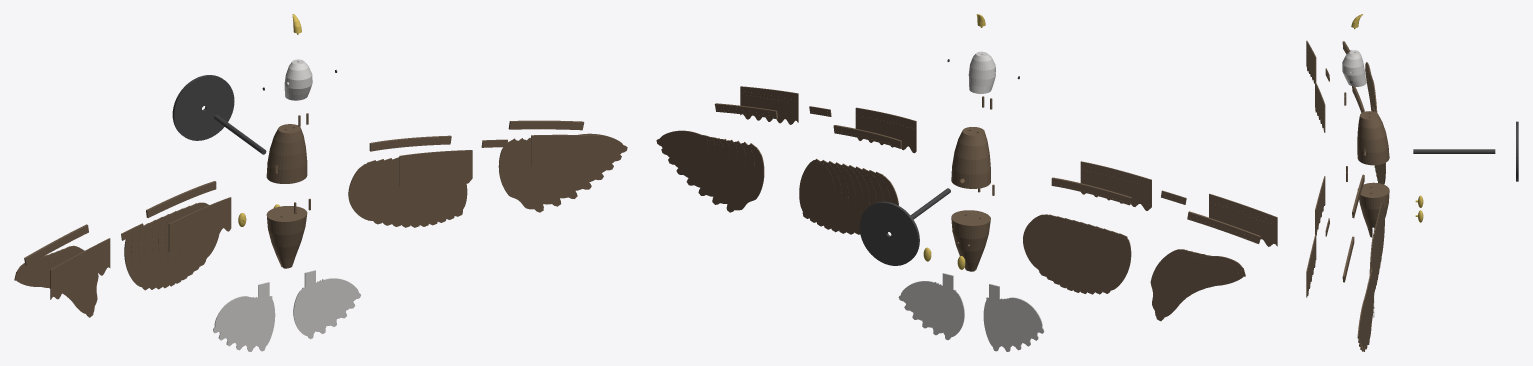
The model's file is eagle_exploded.glb.
3 renders of one model, left to right at view 1: azimuth 30°, elevation 25°; view 2: azimuth 150°, elevation 25°; view 3: azimuth 270°, elevation 25°, orthographic. The views are drawn at different scales.
Visible parts, largest first — view 1: stand_base, tail_R, tail_L, wing_R_covert_inner, wing_R_p01, wing_R_covert_outer, body_front, wing_R_s01, wing_L_covert_inner, wing_L_covert_outer, body_rear, wing_L_p01 (+14 smaller); view 2: stand_base, tail_R, tail_L, body_front, wing_L_s10, wing_L_covert_inner, wing_L_covert_outer, body_rear, wing_R_s10, wing_R_covert_inner, wing_R_covert_outer, wing_L_p08 (+24 smaller); view 3: body_front, body_rear, head, stand_column, wing_R_covert_outer, wing_R_covert_inner, wing_L_covert_inner, wing_L_covert_outer, wing_R_p08, wing_R_s10, wing_R_spar_outer, wing_R_spar_inner (+1 smaller).
Part boxes in pixels (left/top/right/bottom): stand_base: left=172, top=75, right=234, bottom=140; tail_R: left=293, top=270, right=360, bottom=339; tail_L: left=213, top=282, right=275, bottom=351; wing_R_covert_inner: left=399, top=150, right=472, bottom=188; wing_R_p01: left=498, top=138, right=544, bottom=212; wing_R_covert_outer: left=531, top=134, right=601, bottom=168; body_front: left=266, top=124, right=307, bottom=183; wing_R_s01: left=348, top=160, right=390, bottom=224; wing_L_covert_inner: left=168, top=197, right=231, bottom=255; wing_L_covert_outer: left=50, top=238, right=110, bottom=299; body_rear: left=266, top=206, right=307, bottom=268; wing_L_p01: left=60, top=245, right=98, bottom=317; stand_base: left=859, top=201, right=919, bottom=265; tail_R: left=898, top=273, right=964, bottom=340; tail_L: left=983, top=284, right=1044, bottom=351; body_front: left=951, top=127, right=990, bottom=188; wing_L_s10: left=1088, top=232, right=1131, bottom=293; wing_L_covert_inner: left=1080, top=161, right=1151, bottom=210; wing_L_covert_outer: left=1209, top=193, right=1277, bottom=246; body_rear: left=951, top=210, right=990, bottom=271; wing_R_s10: left=799, top=158, right=834, bottom=218; wing_R_covert_inner: left=855, top=107, right=916, bottom=153; wing_R_covert_outer: left=740, top=86, right=798, bottom=124; wing_L_p08: left=1184, top=256, right=1245, bottom=285; body_front: left=1357, top=111, right=1389, bottom=165; body_rear: left=1357, top=182, right=1389, bottom=237; head: left=1342, top=50, right=1366, bottom=86; stand_column: left=1413, top=149, right=1495, bottom=153; wing_R_covert_outer: left=1306, top=234, right=1316, bottom=297; wing_R_covert_inner: left=1315, top=176, right=1325, bottom=235; wing_L_covert_inner: left=1315, top=82, right=1325, bottom=132; wing_L_covert_outer: left=1306, top=40, right=1316, bottom=83; wing_R_p08: left=1357, top=296, right=1366, bottom=338; wing_R_s10: left=1369, top=238, right=1376, bottom=281; wing_R_spar_outer: left=1342, top=236, right=1354, bottom=282; wing_R_spar_inner: left=1352, top=174, right=1364, bottom=218.
Bounding box in the file's own units: 1823 × 955 × 637.
